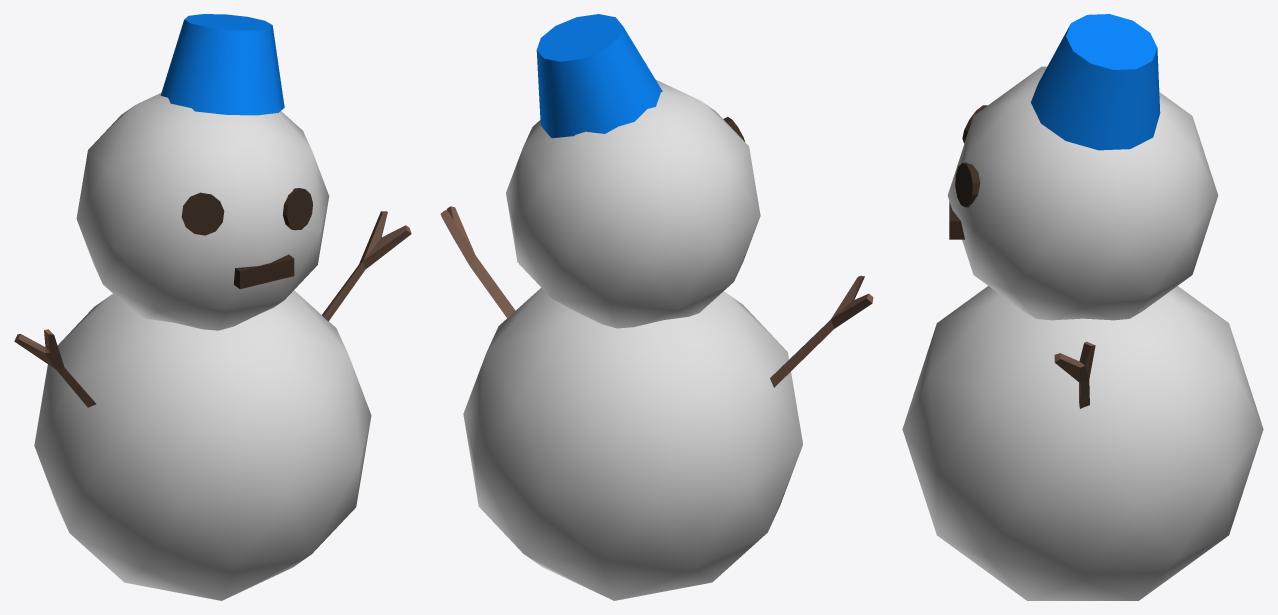
File: yukidaruma.fbx
3 renders of one model, left to right at view 1: azimuth 30°, elevation 25°; view 2: azimuth 150°, elevation 25°; view 3: azimuth 270°, elevation 25°, orthographic. The views are drawn at different scales.
Visible parts, largest first — view 1: snowMan; view 2: snowMan; view 3: snowMan.
Boxes of the visible parts, <box> form: snowMan: <box>14,14,411,600</box>; snowMan: <box>440,14,873,600</box>; snowMan: <box>902,14,1263,600</box>.
Size of the model in its own units: 2.74 by 3.42 by 2.
